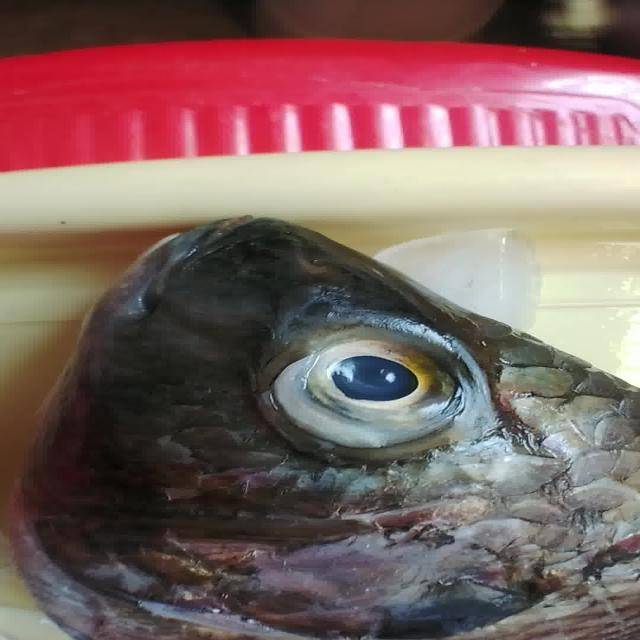Fresh: (265, 309, 495, 457)
